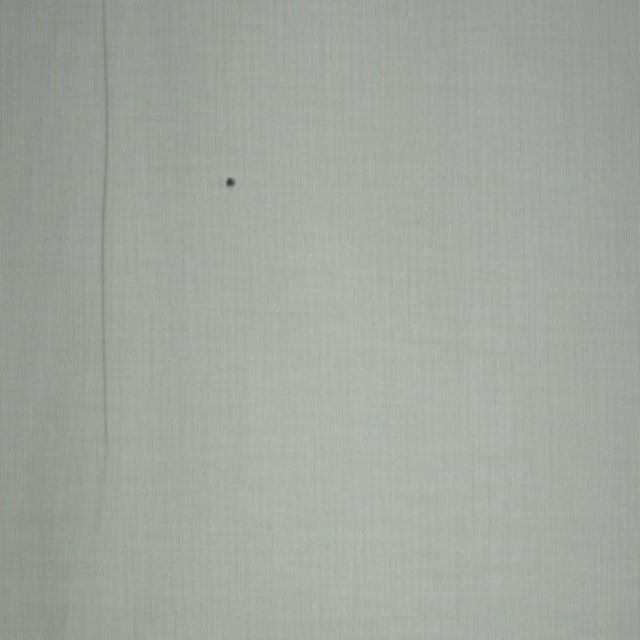dirty: (225, 177, 238, 189)
